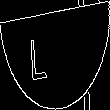L_N: (45, 28, 65, 82)
